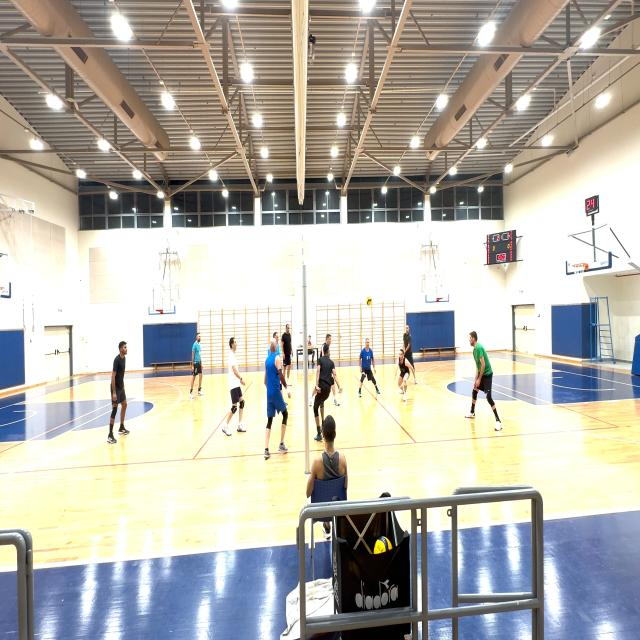volleyball: (373, 536, 392, 555), (366, 296, 372, 306)
